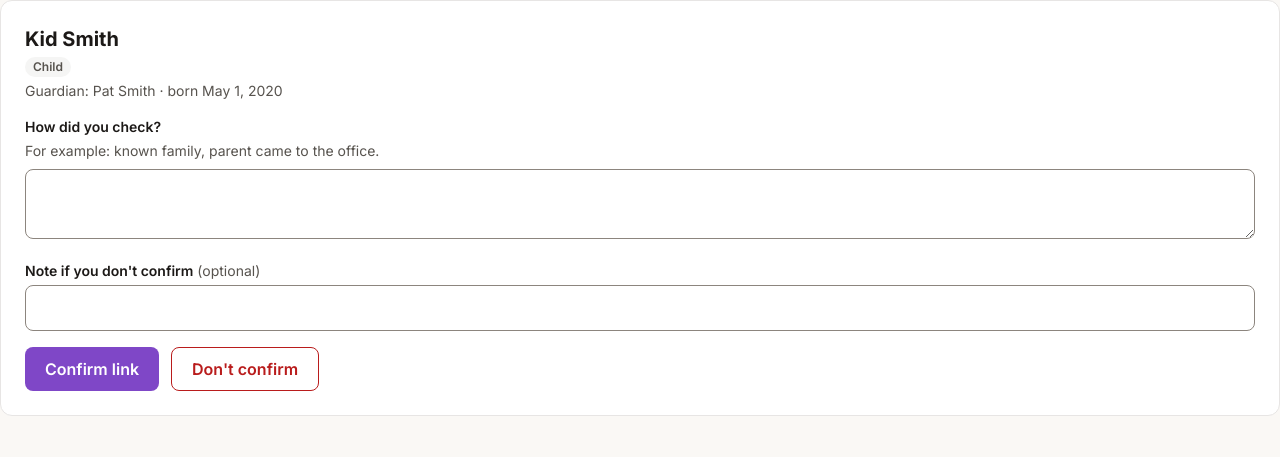
Test: GuardianLinkCard (M1.9, DEC-32, DEC-79) › needs a check note before confirming
The image size is (1280, 457).
Click the button "Confirm link" at x=92, y=369, box top-left (25, 347), bottom-right (159, 391)
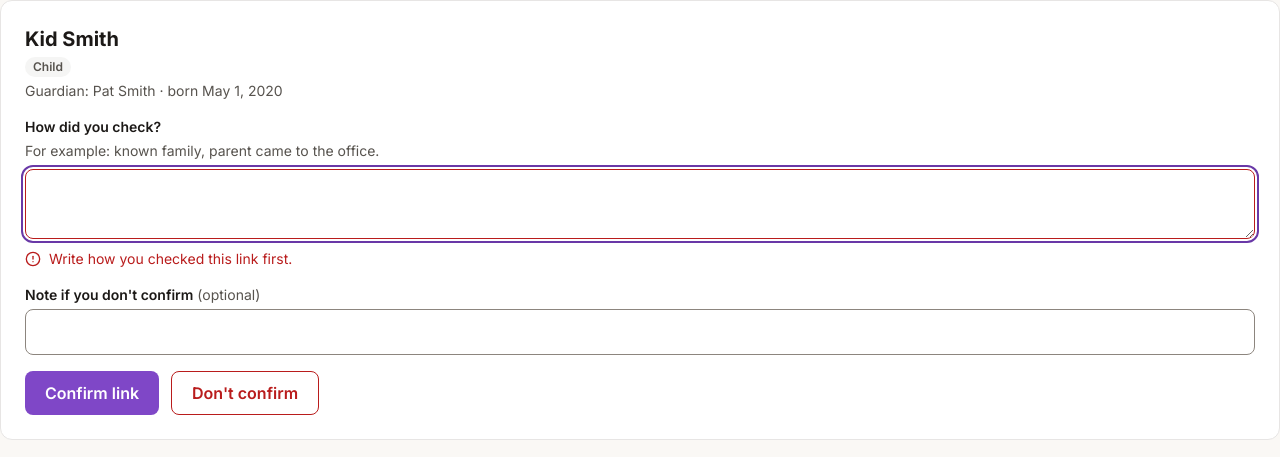
Expected: the text "Write how you checked this link first." is shown, top-left (25, 250), bottom-right (292, 267)
